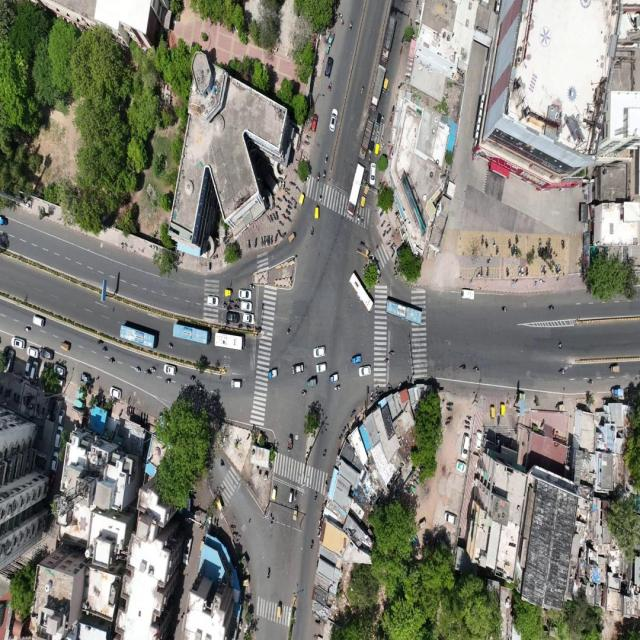3W: (284, 434, 296, 454), (269, 482, 280, 502), (291, 504, 302, 522), (275, 598, 284, 620), (58, 339, 72, 353), (266, 367, 280, 380), (611, 386, 625, 398), (214, 496, 224, 512), (350, 354, 364, 364), (328, 372, 342, 382), (608, 364, 622, 374), (286, 487, 294, 504), (555, 400, 566, 412), (488, 404, 496, 420), (306, 377, 318, 387), (298, 192, 306, 207), (313, 205, 321, 220), (375, 111, 382, 128), (383, 76, 389, 95), (360, 194, 367, 210), (362, 169, 369, 185), (326, 80, 334, 94), (374, 141, 380, 159), (500, 401, 506, 417), (364, 182, 370, 198), (225, 286, 232, 298), (368, 140, 374, 154)
Bus: (348, 269, 377, 317), (384, 296, 424, 327), (118, 323, 159, 350), (172, 319, 211, 345), (213, 329, 246, 355)
Cars: (458, 282, 477, 305), (443, 508, 459, 527), (228, 375, 244, 392), (108, 384, 125, 400), (461, 432, 471, 459), (323, 56, 335, 78), (328, 107, 338, 133), (52, 427, 65, 447), (11, 335, 26, 351), (162, 362, 178, 377), (29, 315, 50, 326), (205, 293, 220, 308), (40, 345, 54, 361), (26, 343, 40, 359), (238, 286, 252, 302), (311, 345, 327, 358), (242, 313, 258, 326), (51, 449, 60, 471), (226, 312, 240, 326), (290, 361, 305, 374), (52, 364, 68, 376), (310, 112, 319, 133), (240, 298, 253, 312), (358, 364, 373, 376), (370, 160, 376, 190), (31, 359, 38, 384), (314, 362, 328, 373), (56, 410, 66, 423), (24, 360, 31, 378)
M2W: (265, 561, 274, 583), (308, 223, 318, 240), (545, 300, 556, 312), (132, 364, 143, 376), (557, 336, 564, 354), (320, 447, 329, 461), (557, 364, 567, 376), (166, 339, 175, 352), (106, 356, 117, 366), (585, 376, 595, 386), (100, 344, 110, 354), (163, 375, 173, 385), (95, 336, 106, 345), (332, 384, 344, 392), (310, 535, 316, 551), (348, 18, 354, 34), (313, 489, 320, 502), (458, 362, 468, 371), (187, 373, 196, 383), (472, 363, 480, 374), (285, 324, 292, 336), (524, 264, 530, 278), (151, 363, 158, 375), (500, 304, 508, 314), (294, 488, 299, 504), (379, 217, 387, 227), (538, 263, 544, 276), (288, 215, 294, 228), (445, 399, 456, 406), (491, 235, 496, 250), (300, 388, 308, 397), (505, 266, 511, 278), (247, 234, 251, 252), (23, 325, 32, 333), (265, 214, 271, 226), (282, 192, 288, 204), (228, 522, 238, 529), (485, 264, 490, 278), (317, 194, 324, 204), (322, 167, 327, 181), (144, 368, 151, 378), (387, 350, 398, 356), (496, 414, 501, 427), (324, 150, 329, 163), (254, 236, 259, 249), (477, 263, 481, 279), (517, 265, 522, 277), (514, 234, 520, 244), (544, 263, 548, 278), (561, 238, 566, 250), (381, 112, 385, 127), (383, 357, 391, 364), (485, 237, 489, 251), (508, 234, 512, 248), (289, 180, 297, 187), (444, 421, 455, 426), (375, 129, 380, 140), (463, 419, 472, 425), (286, 207, 292, 216), (290, 194, 296, 203), (481, 233, 485, 246), (480, 265, 484, 278), (521, 265, 525, 278), (269, 212, 273, 225), (360, 214, 364, 227), (278, 220, 285, 227), (276, 195, 283, 202), (360, 84, 364, 96), (443, 416, 455, 420), (537, 237, 543, 245), (317, 171, 321, 183), (221, 300, 227, 308), (281, 213, 287, 221), (372, 127, 376, 139), (446, 407, 455, 412), (386, 220, 391, 229), (260, 234, 263, 249), (496, 245, 500, 256), (382, 230, 388, 237), (233, 304, 240, 310), (467, 413, 472, 421), (272, 212, 276, 222), (274, 234, 278, 244), (357, 215, 361, 225), (463, 426, 472, 430), (387, 228, 393, 234), (249, 283, 255, 289), (228, 298, 234, 304), (234, 298, 240, 304), (390, 241, 395, 248), (276, 203, 281, 210), (558, 263, 561, 274), (270, 235, 273, 246), (226, 306, 233, 310), (356, 208, 360, 215), (266, 235, 268, 248)
Truck: (347, 160, 362, 222), (381, 16, 396, 65), (358, 114, 374, 159), (370, 58, 382, 112)
